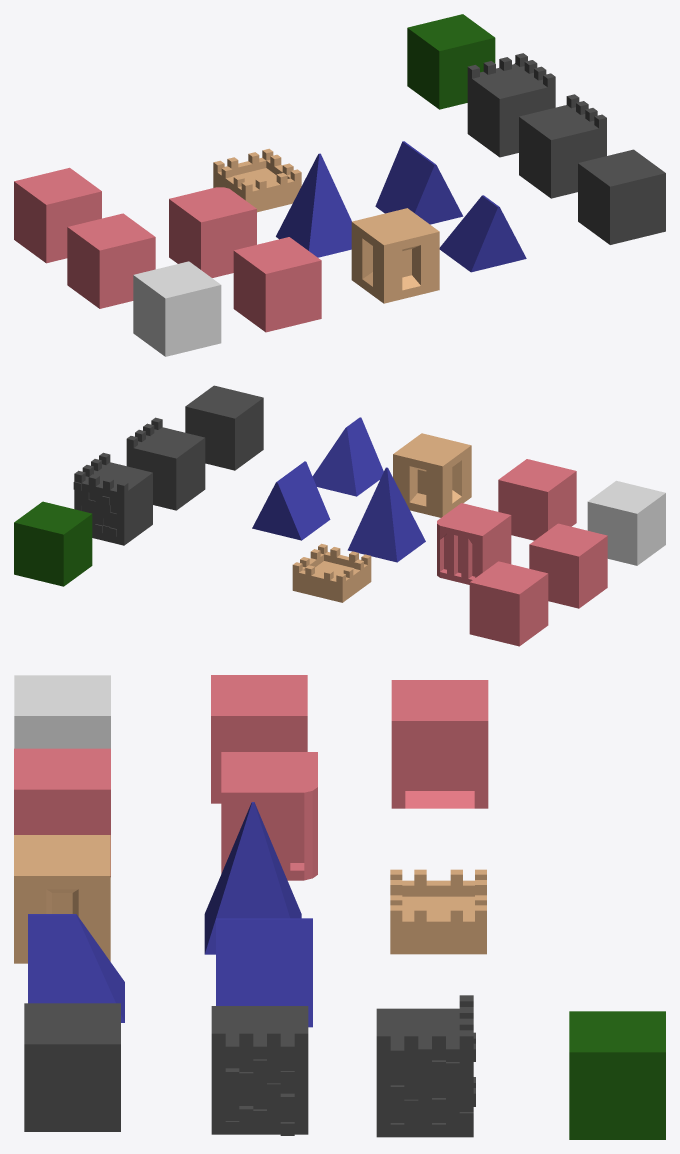
The model's file is Castle.fbx.
The picture shows the model from 3 angles, top to bottom: view 1: azimuth 30°, elevation 25°; view 2: azimuth 150°, elevation 25°; view 3: azimuth 270°, elevation 25°; orthographic projection. The views are drawn at different scales.
Parts seen in each view (by area): view 1: Air_Interior, Tower_Square, Wall_Floor, Floor_Castle, Floor_Wall_Castle, Wall, Floor_Wall_Curve_Castle, Wall_Curve, Grass, Wall_Door, Roof_SquareTowerEnd, Roof_Straight (+2 smaller); view 2: Wall_Door, Grass, Floor_Wall_Curve_Castle, Tower_Square, Air_Interior, Floor_Castle, Wall, Floor_Wall_Castle, Wall_Floor, Wall_Curve, Roof_SquareTowerEnd, Roof_Straight (+2 smaller); view 3: Floor_Wall_Curve_Castle, Floor_Wall_Castle, Wall_Door, Floor_Castle, Grass, Wall_Curve, Tower_Square, Roof_Straight, Wall_Floor, Wall, Roof_SquareTowerTerrace, Air_Interior (+2 smaller).
Boxes of the visible parts, box(x1,y1,x2,y2) form: Air_Interior: box(133, 261, 221, 356); Tower_Square: box(351, 208, 439, 303); Wall_Floor: box(233, 237, 321, 332); Floor_Castle: box(578, 149, 665, 244); Floor_Wall_Castle: box(519, 94, 606, 198); Wall: box(67, 213, 155, 308); Floor_Wall_Curve_Castle: box(467, 53, 555, 157); Wall_Curve: box(169, 187, 256, 277); Grass: box(407, 14, 495, 109); Wall_Door: box(14, 167, 101, 263); Roof_SquareTowerEnd: box(276, 153, 351, 257); Roof_Straight: box(375, 141, 463, 224); Wall_Door: box(469, 561, 548, 646); Grass: box(14, 501, 92, 586); Floor_Wall_Curve_Castle: box(73, 452, 152, 545); Tower_Square: box(393, 433, 471, 517); Air_Interior: box(587, 480, 665, 565); Floor_Castle: box(185, 385, 263, 470); Wall: box(529, 523, 607, 608); Floor_Wall_Castle: box(126, 417, 205, 510); Wall_Floor: box(498, 459, 576, 540); Wall_Curve: box(437, 503, 511, 584); Roof_SquareTowerEnd: box(347, 467, 425, 562); Roof_Straight: box(252, 461, 330, 540); Floor_Wall_Curve_Castle: box(376, 995, 475, 1137); Floor_Wall_Castle: box(211, 1006, 308, 1135); Wall_Door: box(391, 680, 488, 808); Floor_Castle: box(24, 1003, 120, 1131); Grass: box(569, 1011, 665, 1139); Wall_Curve: box(221, 752, 317, 880); Tower_Square: box(14, 835, 110, 963); Roof_Straight: box(216, 918, 312, 1027); Wall_Floor: box(14, 748, 110, 876); Wall: box(211, 675, 307, 803); Roof_SquareTowerTerrace: box(390, 869, 486, 954); Air_Interior: box(14, 675, 110, 748).
Bounding box in the file's own units: 1844 × 300 × 1347.
